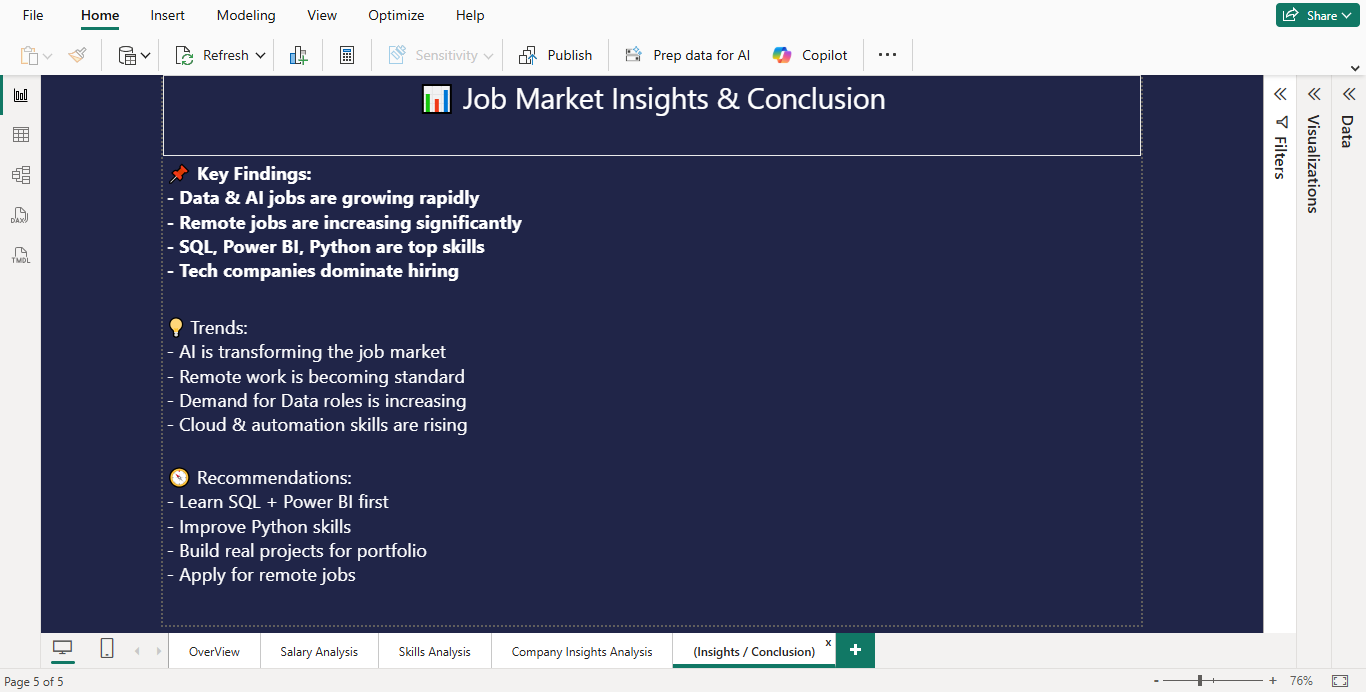

The page's visual inventory and layout, read from the dashboard file:
{"tool":"powerbi","page":{"name":"(Insights / Conclusion)","canvas":[1280,720],"ordinal":4},"visuals":[{"type":"textbox","box":[0,0,1280.2,106.6],"z":0},{"type":"textbox","box":[0,106.6,1280.2,213.1],"z":1000},{"type":"textbox","box":[0,308.2,1280.2,177.1],"z":2000},{"type":"textbox","box":[0,504,1280,177],"z":3000}]}

Visuals, with their boxes on the page's 1280x720 design canvas (x1, y1, x2, y2). These are canvas units, not pixel positions in the 1366x692 screenshot, which may show the page scaled, cropped or inside an application window:
textbox: 0:0:1280:107
textbox: 0:107:1280:320
textbox: 0:308:1280:485
textbox: 0:504:1280:681
